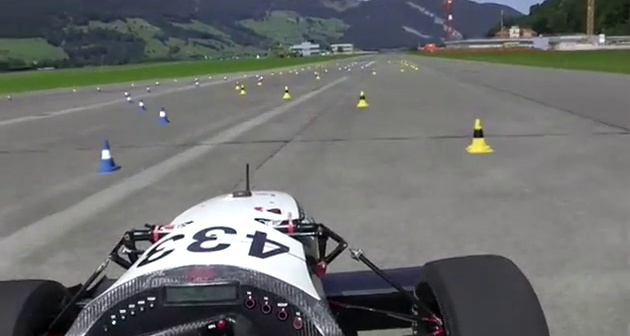Cone: (465, 117, 496, 154), (95, 139, 121, 172), (156, 106, 171, 126), (356, 88, 370, 109), (281, 84, 293, 102)
